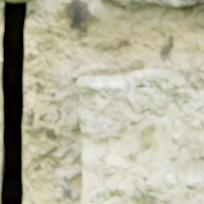brick: (77, 68, 203, 203), (109, 0, 203, 8)
crack: (0, 0, 26, 203)
